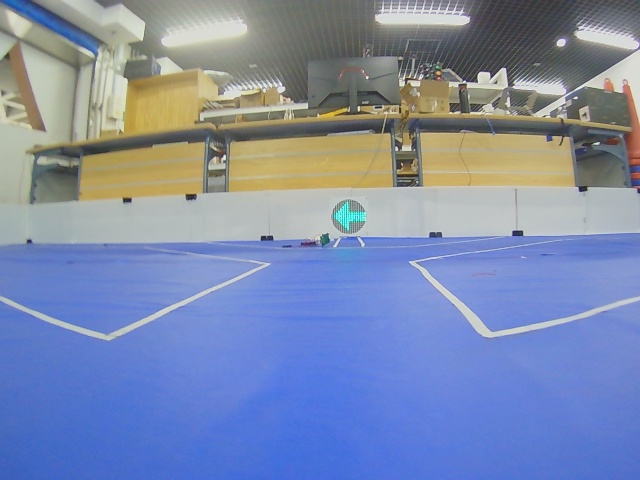left_green: (331, 199, 367, 235)
